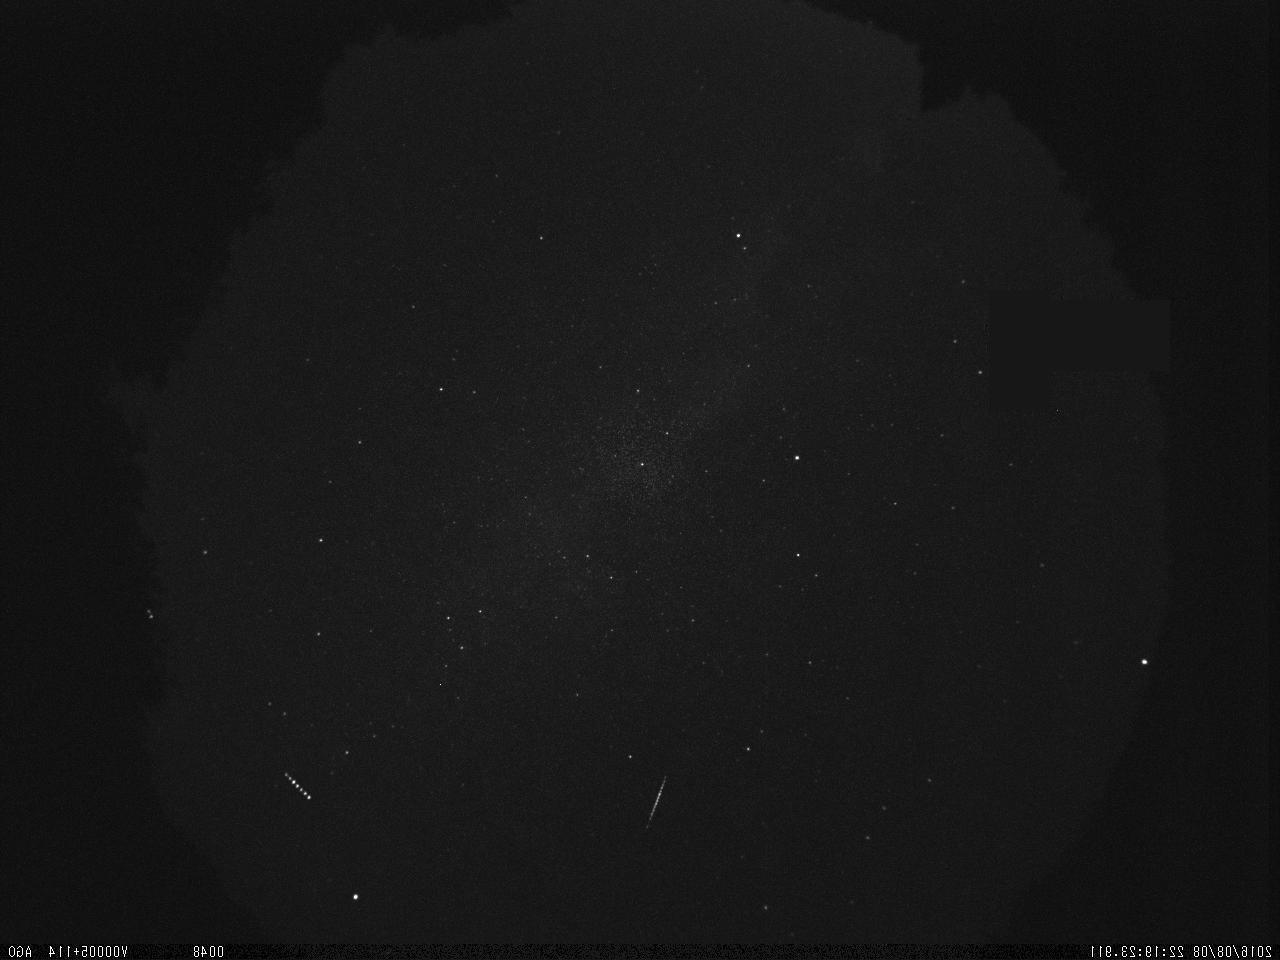meteor: (640, 765, 674, 833)
satelite: (280, 761, 312, 804)
